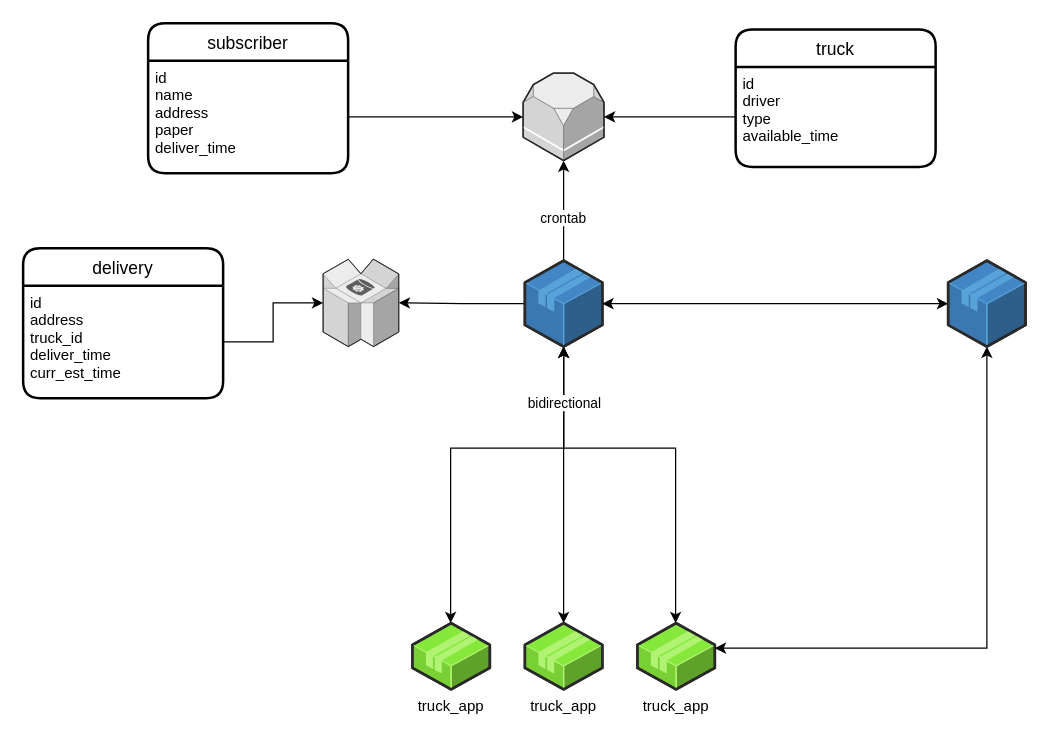
The diagram is 1048 pixels wide and 736 high, and some of its shapes have lost their labels. Here are the shapes that lost their labels. From the top down, the box of each, then its label:
(322, 258, 399, 347): NoSQL - delivery
(524, 259, 602, 347): main service
(947, 259, 1026, 347): monitor
